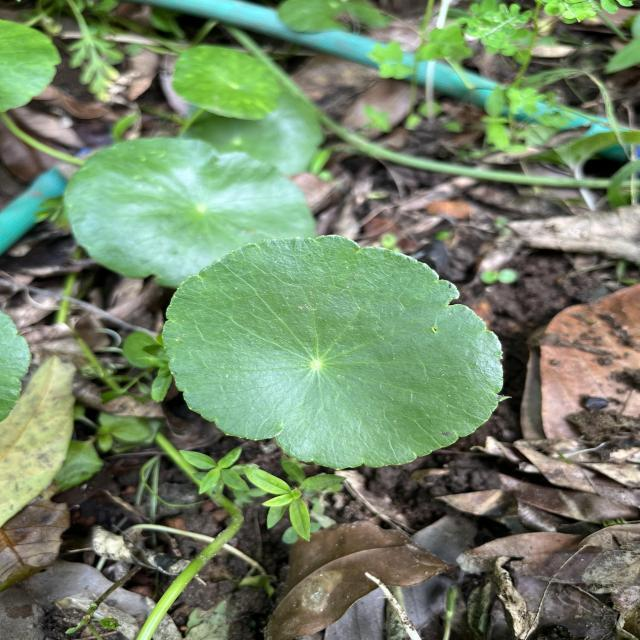Bacopa monnieri: (157, 231, 506, 474)
